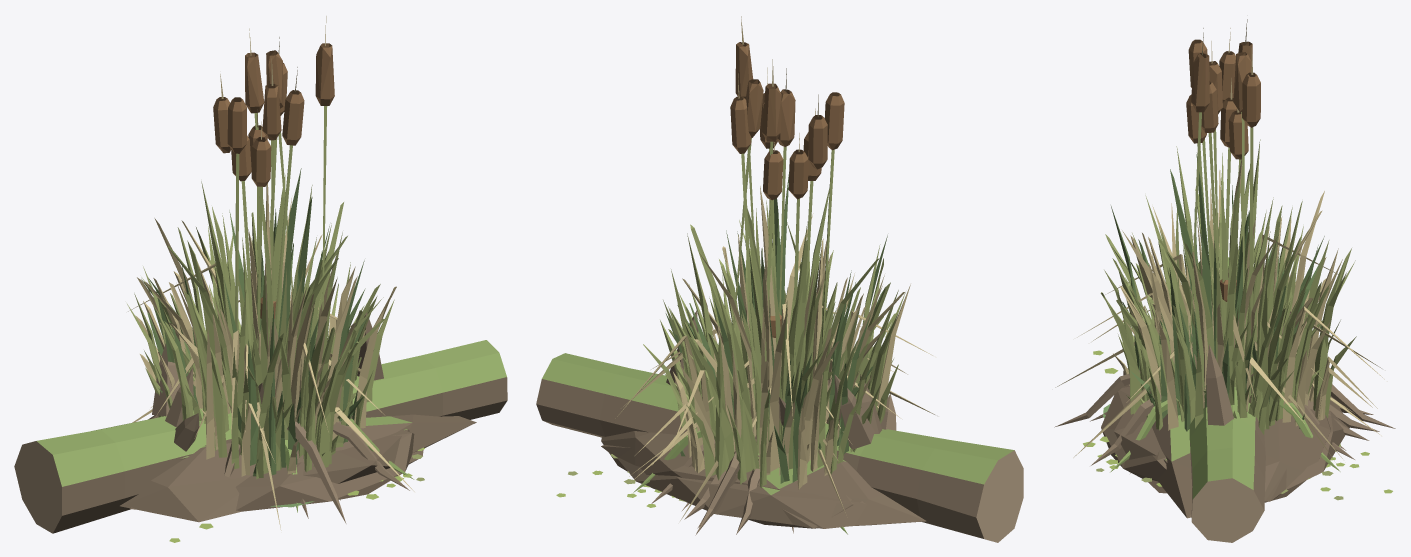
Rendered from marsh-kit.glb.
3 views of the same model, side by side, from view 1: azimuth 30°, elevation 25°; view 2: azimuth 150°, elevation 25°; view 3: azimuth 270°, elevation 25° (orthographic). The views are drawn at different scales.
Parts seen in each view (by area): view 1: log-3, reeds-4, reeds-6, reeds-1, reeds-2, bank-3, reeds-5, reeds-3, bank-4, bank-1, log-4, roots-4 (+1 smaller); view 2: log-3, reeds-4, reeds-2, reeds-6, reeds-5, bank-3, reeds-1, reeds-3, bank-1, roots-4, bank-4, log-4 (+1 smaller); view 3: reeds-4, reeds-2, reeds-6, log-3, reeds-1, reeds-5, bank-3, reeds-3, bank-1, roots-4, bank-4, log-1 (+1 smaller).
Boxes of the visible parts, <box> form: log-3: <box>14,340,507,533</box>; reeds-4: <box>127,16,394,479</box>; reeds-6: <box>128,37,414,491</box>; reeds-1: <box>137,67,384,530</box>; reeds-2: <box>149,183,373,471</box>; bank-3: <box>120,357,476,522</box>; reeds-5: <box>134,175,396,518</box>; reeds-3: <box>169,109,380,447</box>; bank-4: <box>129,429,414,511</box>; bank-1: <box>148,395,423,483</box>; log-4: <box>165,368,199,451</box>; roots-4: <box>287,420,414,523</box>; log-3: <box>536,353,1023,542</box>; reeds-4: <box>660,16,932,514</box>; reeds-2: <box>668,172,898,484</box>; reeds-6: <box>615,73,905,533</box>; reeds-5: <box>629,208,907,489</box>; bank-3: <box>601,417,926,526</box>; reeds-1: <box>674,67,934,468</box>; reeds-3: <box>668,133,895,468</box>; bank-1: <box>617,417,866,528</box>; roots-4: <box>633,428,847,535</box>; bank-4: <box>601,445,853,528</box>; log-4: <box>778,374,896,433</box>; reeds-4: <box>1077,19,1356,430</box>; reeds-2: <box>1130,157,1381,431</box>; reeds-6: <box>1073,39,1384,457</box>; log-3: <box>1189,257,1265,542</box>; reeds-1: <box>1055,28,1327,422</box>; reeds-5: <box>1090,180,1377,473</box>; bank-3: <box>1123,338,1330,518</box>; reeds-3: <box>1126,78,1329,418</box>; bank-1: <box>1114,396,1349,493</box>; roots-4: <box>1054,370,1395,472</box>; bank-4: <box>1101,383,1289,501</box>; log-1: <box>1191,333,1233,425</box>.
Size of the model in its own units: 1.3 by 1.26 by 0.8877.
